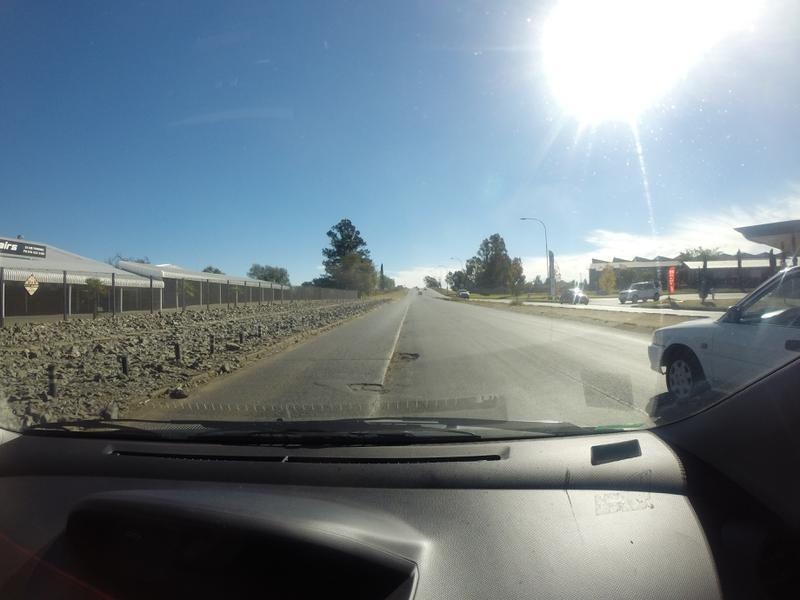pothole: (353, 380, 391, 393), (394, 349, 419, 362)
